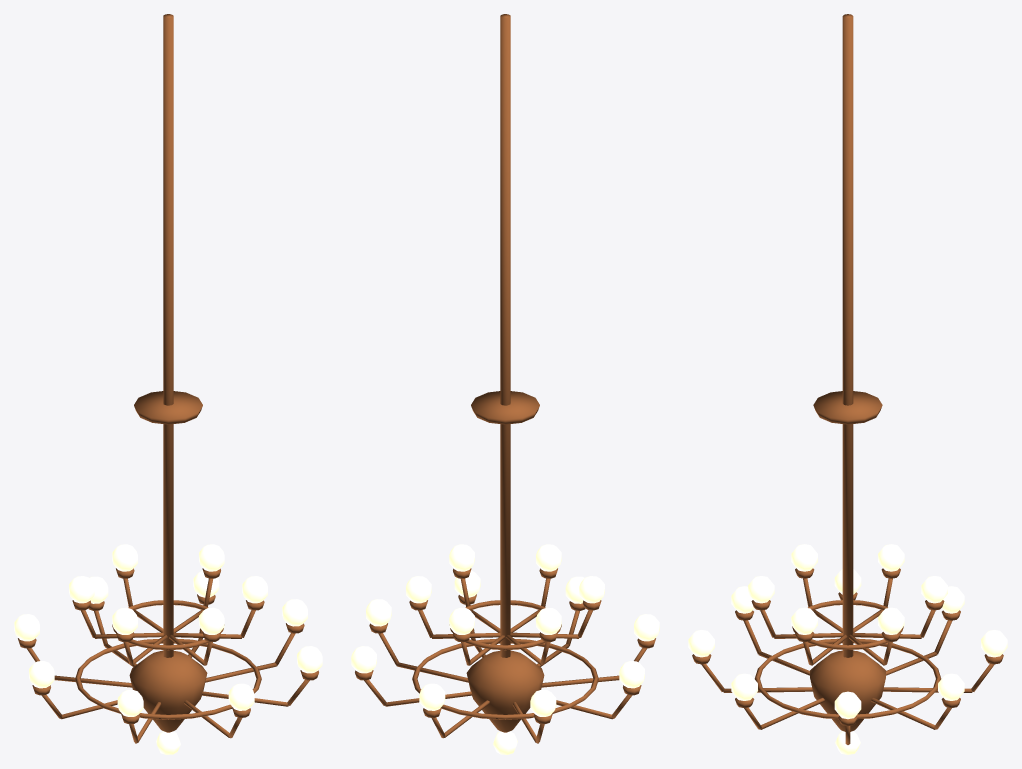
The model's file is chandelier_gaslamp.glb.
3 renders of one model, left to right at view 1: azimuth 30°, elevation 25°; view 2: azimuth 150°, elevation 25°; view 3: azimuth 270°, elevation 25°, orthographic.
Parts seen in each view (by area): view 1: chandelier_gaslamp metal, chandelier_gaslamp lamp; view 2: chandelier_gaslamp metal, chandelier_gaslamp lamp; view 3: chandelier_gaslamp metal, chandelier_gaslamp lamp.
Part boxes in pixels (left/top/right/bottom): chandelier_gaslamp metal: left=18, top=14, right=318, bottom=743; chandelier_gaslamp lamp: left=14, top=544, right=322, bottom=754; chandelier_gaslamp metal: left=355, top=14, right=655, bottom=743; chandelier_gaslamp lamp: left=351, top=544, right=659, bottom=754; chandelier_gaslamp metal: left=692, top=14, right=1003, bottom=744; chandelier_gaslamp lamp: left=688, top=544, right=1007, bottom=754.
Bounding box in the file's own units: 2.95 × 7.52 × 2.95.
